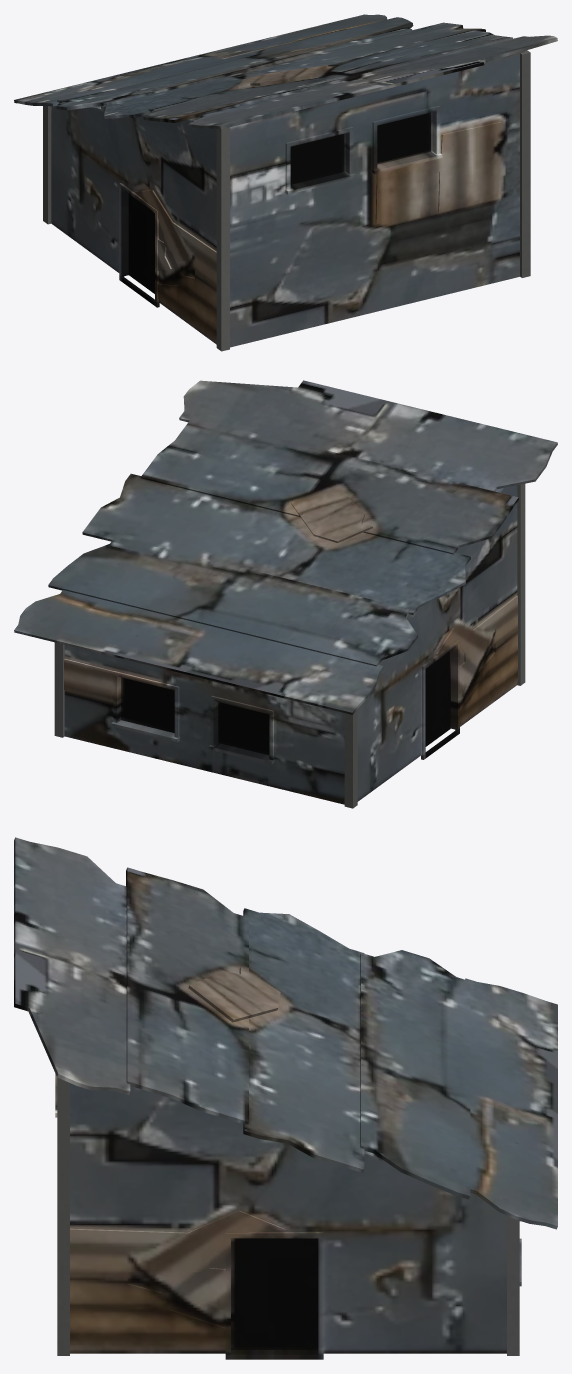
The model's file is crashshanty1_cad.glb.
The picture shows the model from 3 angles, top to bottom: view 1: azimuth 30°, elevation 25°; view 2: azimuth 150°, elevation 25°; view 3: azimuth 270°, elevation 25°; orthographic projection. The views are drawn at different scales.
Visible parts, largest first — view 1: CrashShanty1; view 2: CrashShanty1; view 3: CrashShanty1.
Boxes of the visible parts, x1=… form: CrashShanty1: x1=14, y1=14, x2=557, y2=351; CrashShanty1: x1=14, y1=380, x2=557, y2=808; CrashShanty1: x1=14, y1=837, x2=557, y2=1359.
Bounding box in the file's own units: 6.91 × 4.41 × 6.83.
1 material, 1 textured.
